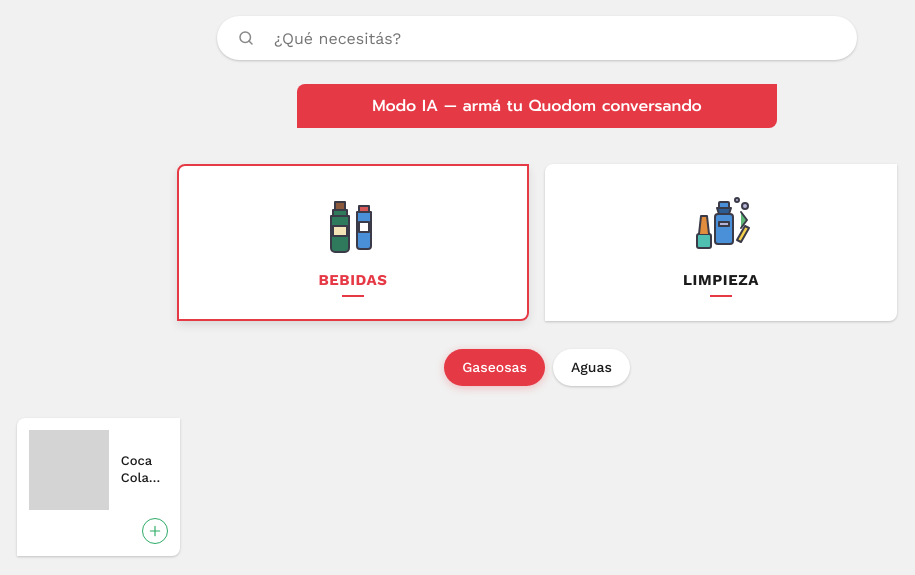
SitioInicial › tocar una tab cambia la lista de productos
Expected: the text "Coca Cola 2L" is shown, [121,453,152,502]
Click the link "Aguas".
click(591, 368)  # box [553,349,630,386]
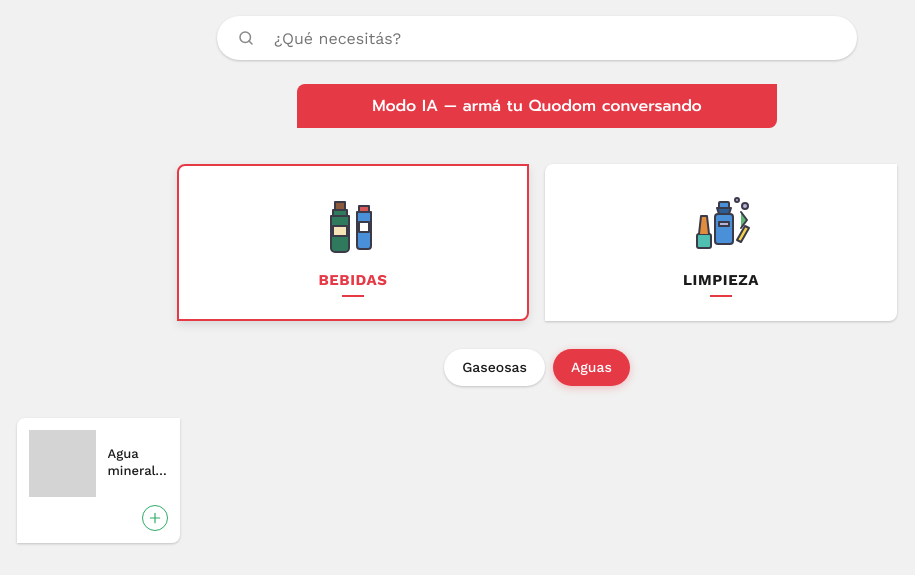
Now the text "Agua mineral 500ml" is shown, box [108,446,155,495]
